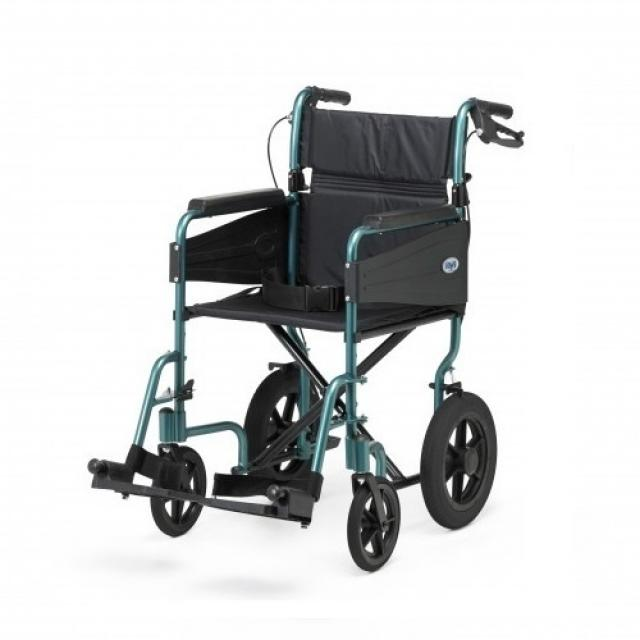wheelchair: (81, 64, 560, 583)
